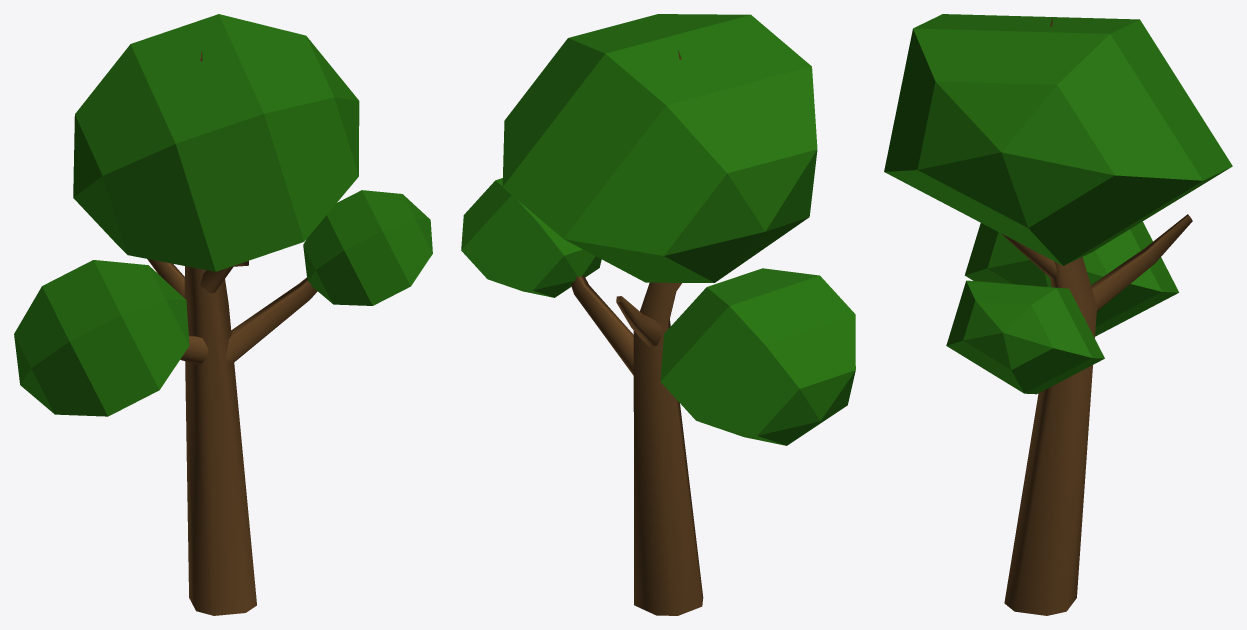
File: arbol_1.fbx
The picture shows the model from 3 angles, left to right: view 1: azimuth 30°, elevation 25°; view 2: azimuth 150°, elevation 25°; view 3: azimuth 270°, elevation 25°; orthographic projection. The views are drawn at different scales.
Parts seen in each view (by area): view 1: tree_1; view 2: tree_1; view 3: tree_1.
Part boxes in pixels (<box>): tree_1: <box>14,14,432,615</box>; tree_1: <box>461,14,855,615</box>; tree_1: <box>884,14,1232,615</box>.
Size of the model in its own units: 336 by 466 by 253.
